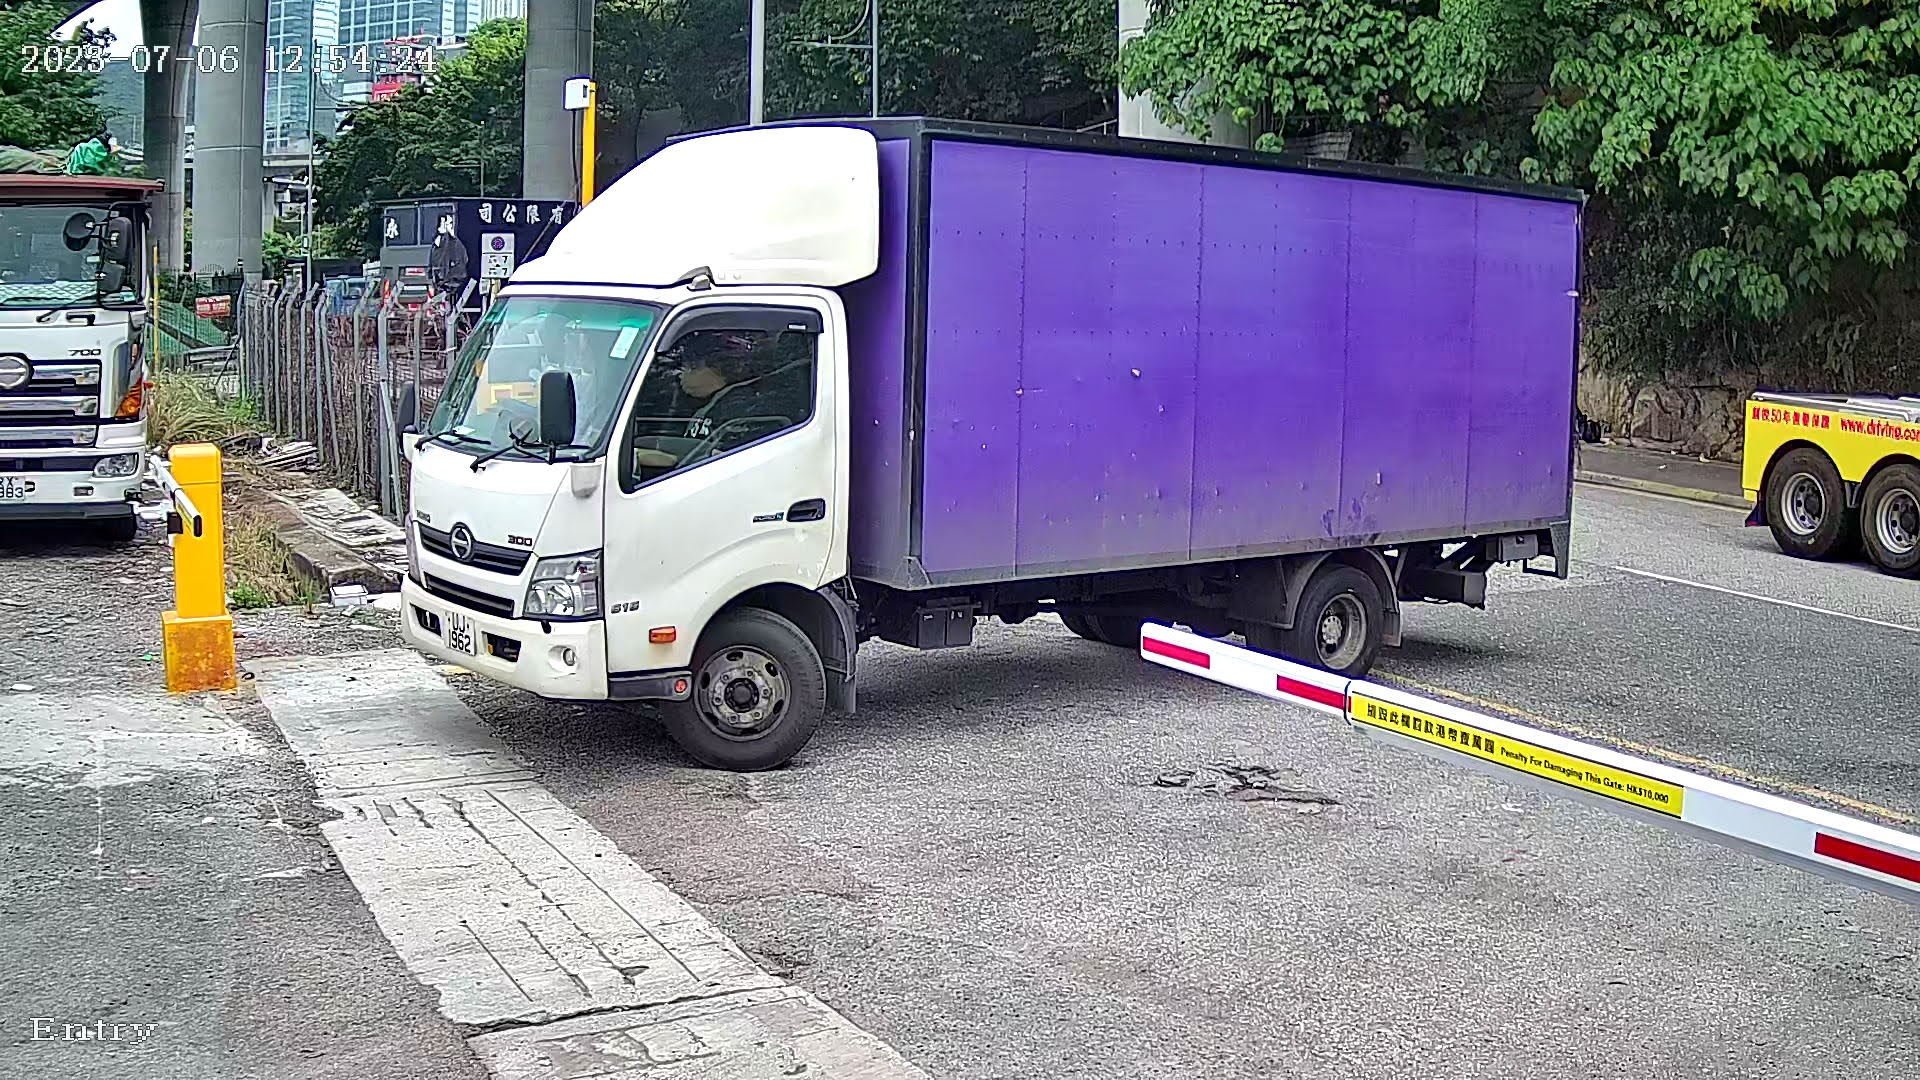truck: (352, 42, 1647, 829)
